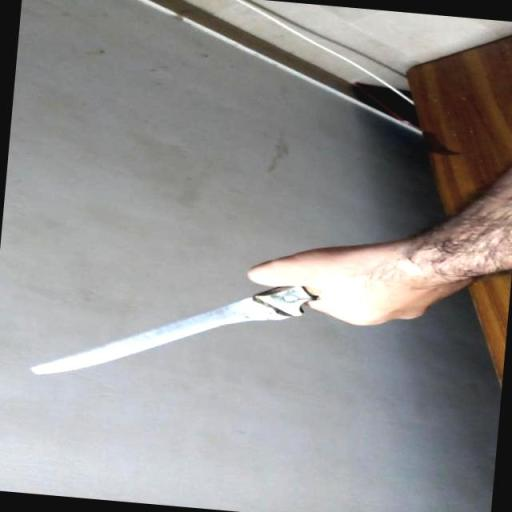knife: (32, 262, 326, 397)
